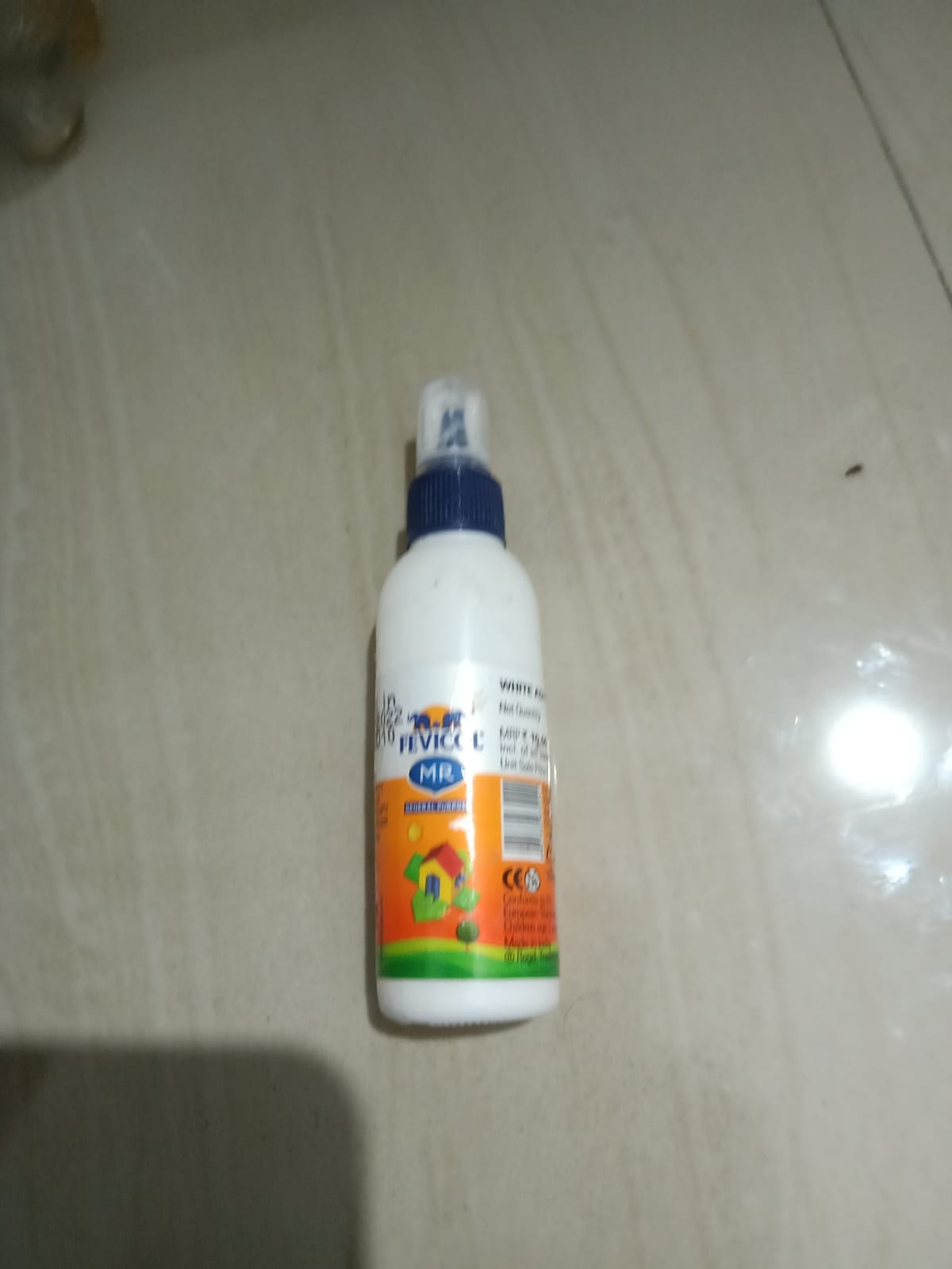plastic: (262, 347, 657, 1085)
